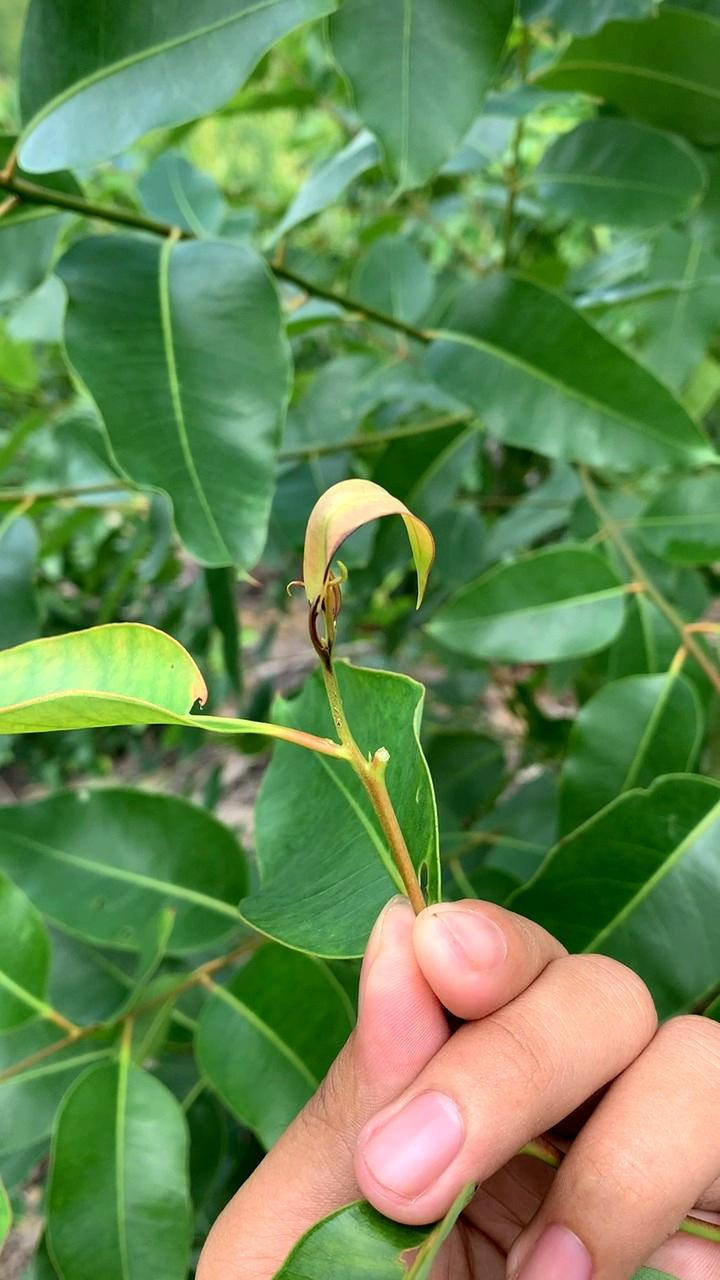Helopeltis-Withered Sprout: (266, 480, 445, 626)
